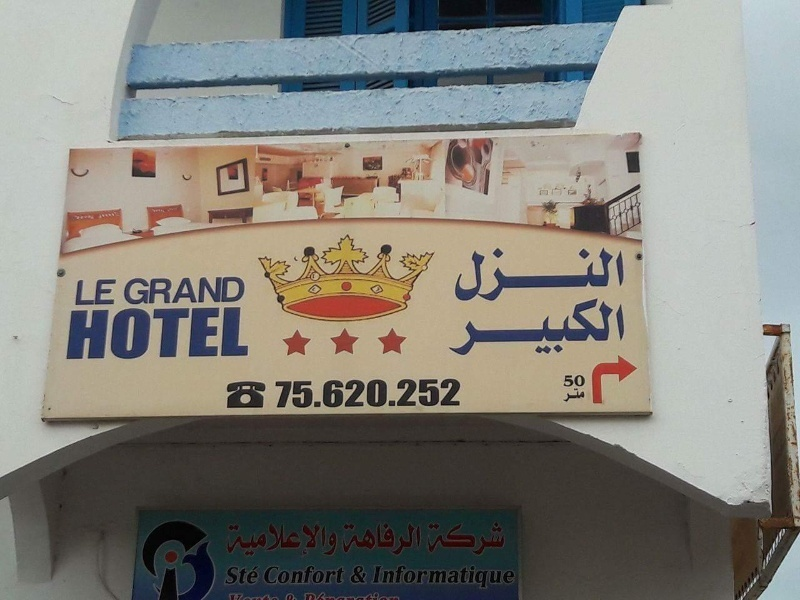text: (449, 296, 464, 357), (465, 296, 480, 357), (481, 296, 496, 357), (497, 296, 512, 357), (513, 296, 528, 357), (529, 296, 544, 357), (545, 296, 560, 357), (561, 296, 576, 357), (577, 296, 592, 357), (593, 296, 608, 357), (609, 296, 624, 357), (465, 247, 480, 304), (481, 247, 496, 304), (497, 247, 512, 304), (513, 247, 528, 304), (529, 247, 544, 304), (545, 247, 560, 304), (561, 247, 576, 304), (577, 247, 592, 304), (593, 247, 608, 304), (609, 247, 624, 304), (81, 306, 96, 361), (97, 306, 112, 361), (113, 306, 128, 361), (129, 306, 144, 361), (145, 306, 160, 361), (161, 306, 176, 361), (177, 306, 192, 361), (193, 306, 208, 361), (209, 306, 224, 361), (225, 306, 240, 361), (241, 521, 256, 562), (257, 521, 272, 562), (273, 521, 288, 562), (289, 521, 304, 562), (305, 521, 320, 562), (321, 521, 336, 562), (69, 306, 80, 361), (226, 521, 240, 562), (433, 520, 448, 557), (449, 520, 464, 557), (465, 520, 480, 557), (481, 520, 496, 557), (353, 522, 368, 559), (369, 522, 384, 559), (385, 522, 400, 559), (401, 522, 416, 559), (241, 306, 251, 361), (129, 275, 144, 307), (145, 275, 160, 307), (161, 275, 176, 307), (177, 275, 192, 307), (193, 275, 208, 307), (209, 275, 224, 307), (225, 275, 240, 307), (289, 378, 304, 409), (305, 378, 320, 409), (321, 378, 336, 409), (337, 378, 352, 409), (353, 378, 368, 409), (369, 378, 384, 409), (385, 378, 400, 409), (401, 378, 416, 409), (417, 378, 432, 409), (433, 378, 448, 409), (456, 247, 464, 304), (81, 277, 96, 307), (97, 277, 112, 307), (341, 522, 352, 559), (449, 378, 462, 409), (385, 564, 400, 590), (401, 564, 416, 590), (417, 564, 432, 590), (433, 564, 448, 590), (449, 564, 464, 590), (465, 564, 480, 590), (481, 564, 496, 590), (497, 564, 512, 590), (276, 378, 288, 409), (273, 564, 288, 587), (289, 564, 304, 587), (305, 564, 320, 587), (321, 564, 336, 587), (497, 520, 506, 557), (241, 565, 256, 587), (372, 564, 384, 590), (226, 565, 240, 587), (353, 566, 367, 585), (337, 564, 347, 587), (426, 520, 432, 557), (417, 522, 423, 559), (563, 373, 576, 388), (564, 387, 576, 403), (113, 277, 119, 307), (625, 247, 628, 304), (265, 564, 272, 587), (577, 387, 587, 403), (241, 275, 246, 307), (577, 373, 587, 388), (337, 521, 340, 562), (76, 277, 80, 307), (257, 565, 262, 587), (513, 564, 516, 590), (126, 275, 128, 307), (625, 296, 626, 357), (349, 566, 352, 585)
